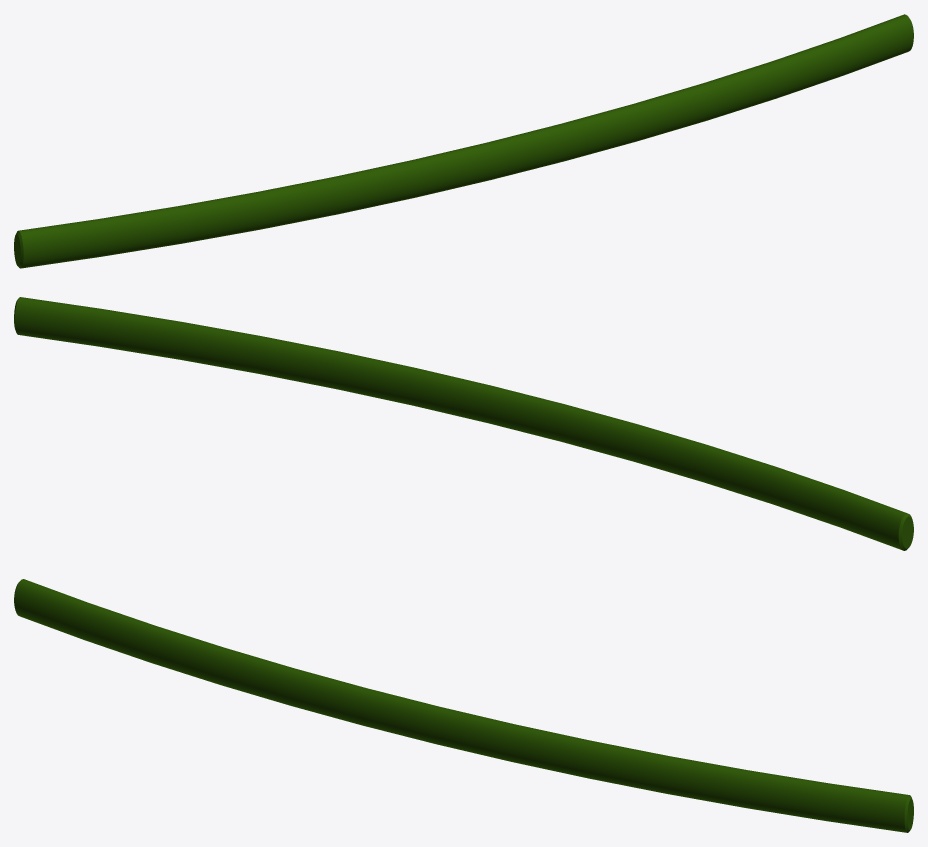
The model's file is original-29.obj.
The picture shows the model from 3 angles, top to bottom: view 1: azimuth 30°, elevation 25°; view 2: azimuth 150°, elevation 25°; view 3: azimuth 330°, elevation 25°; orthographic projection.
Visible parts, largest first — view 1: mesh43/mesh43-geometry#mesh43-geometry; view 2: mesh43/mesh43-geometry#mesh43-geometry; view 3: mesh43/mesh43-geometry#mesh43-geometry.
Boxes of the visible parts, left/top/right/bottom form: mesh43/mesh43-geometry#mesh43-geometry: left=14, top=14, right=913, bottom=268; mesh43/mesh43-geometry#mesh43-geometry: left=14, top=297, right=913, bottom=550; mesh43/mesh43-geometry#mesh43-geometry: left=14, top=579, right=913, bottom=832.
Size of the model in its own units: 0.8951 by 0.0352 by 0.0674.
